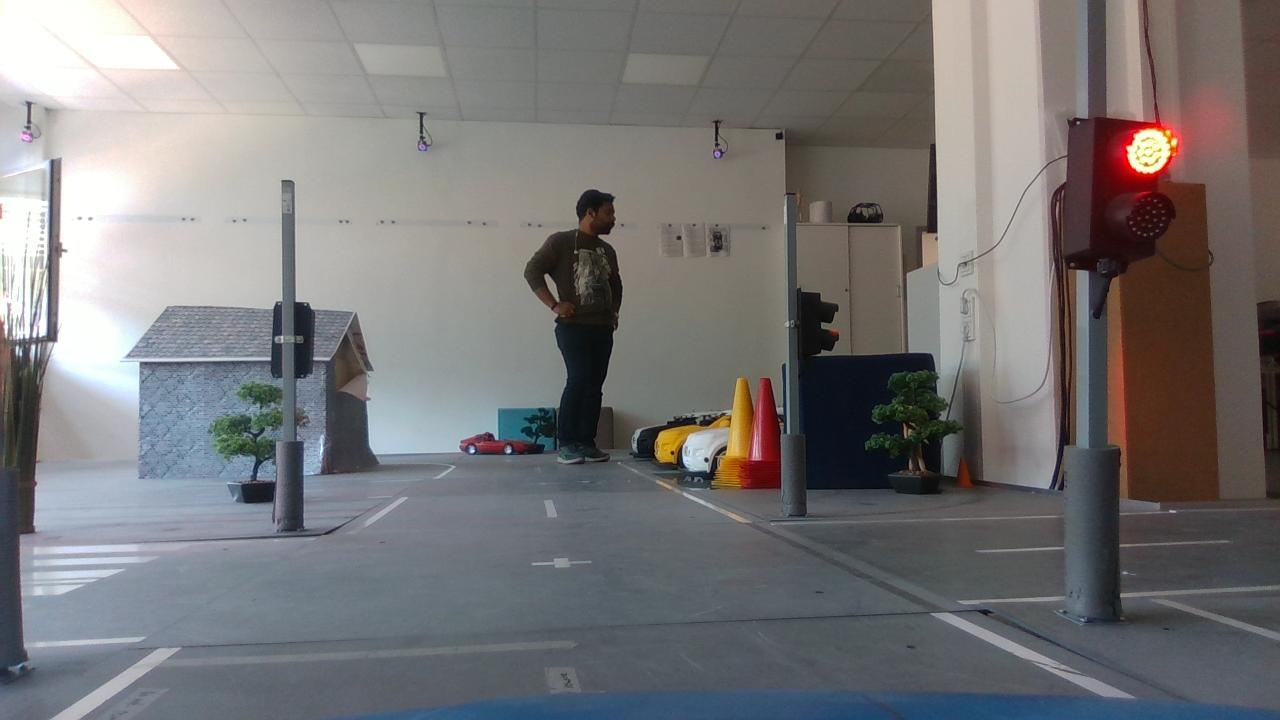traffic_light_red: (1040, 100, 1190, 278)
